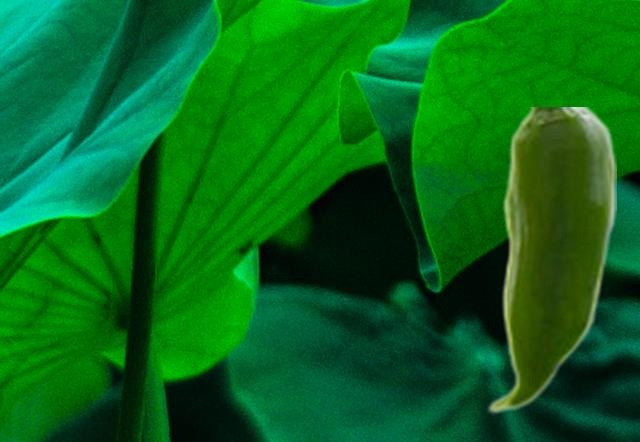green_chili: (485, 107, 615, 414)
